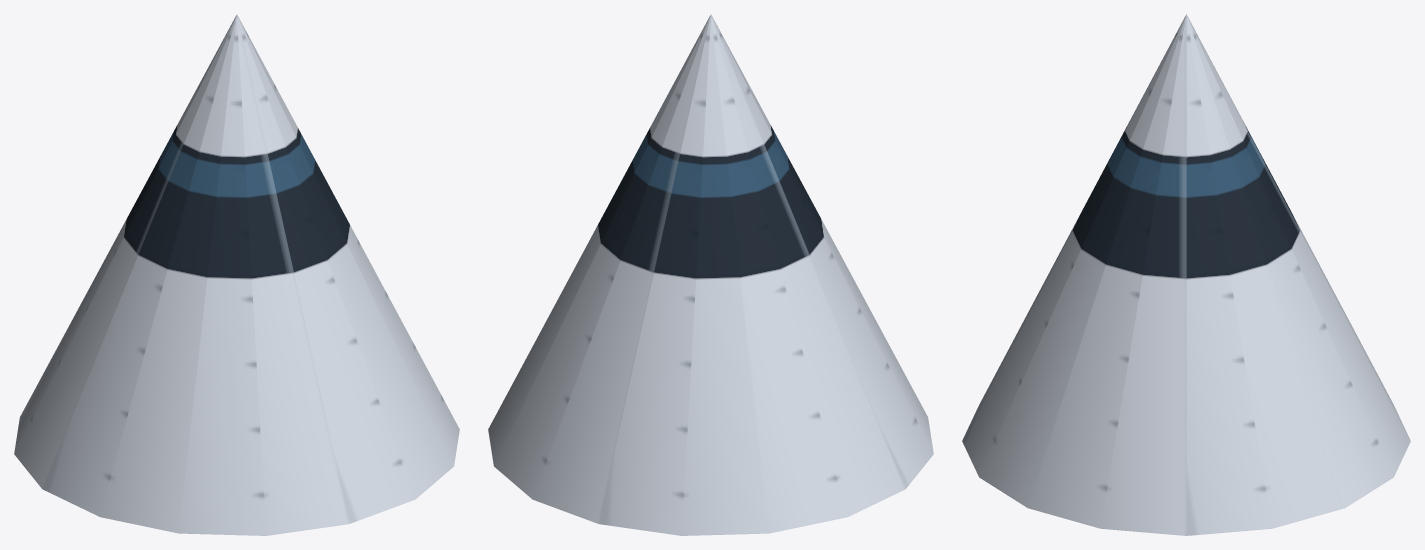
The model's file is cmd-shuttle_orbiter-flight-deck.glb.
The picture shows the model from 3 angles, left to right: view 1: azimuth 30°, elevation 25°; view 2: azimuth 150°, elevation 25°; view 3: azimuth 270°, elevation 25°; orthographic projection.
Parts seen in each view (by area): view 1: Orbiter Flight Deck; view 2: Orbiter Flight Deck; view 3: Orbiter Flight Deck.
Part boxes in pixels (x1,y1,x2,y2): Orbiter Flight Deck: (14, 14, 459, 535); Orbiter Flight Deck: (488, 14, 933, 535); Orbiter Flight Deck: (962, 14, 1410, 535).
Bounding box in the file's own units: 2 × 2.1 × 2.
Materials: 1 (1 with a texture image).
